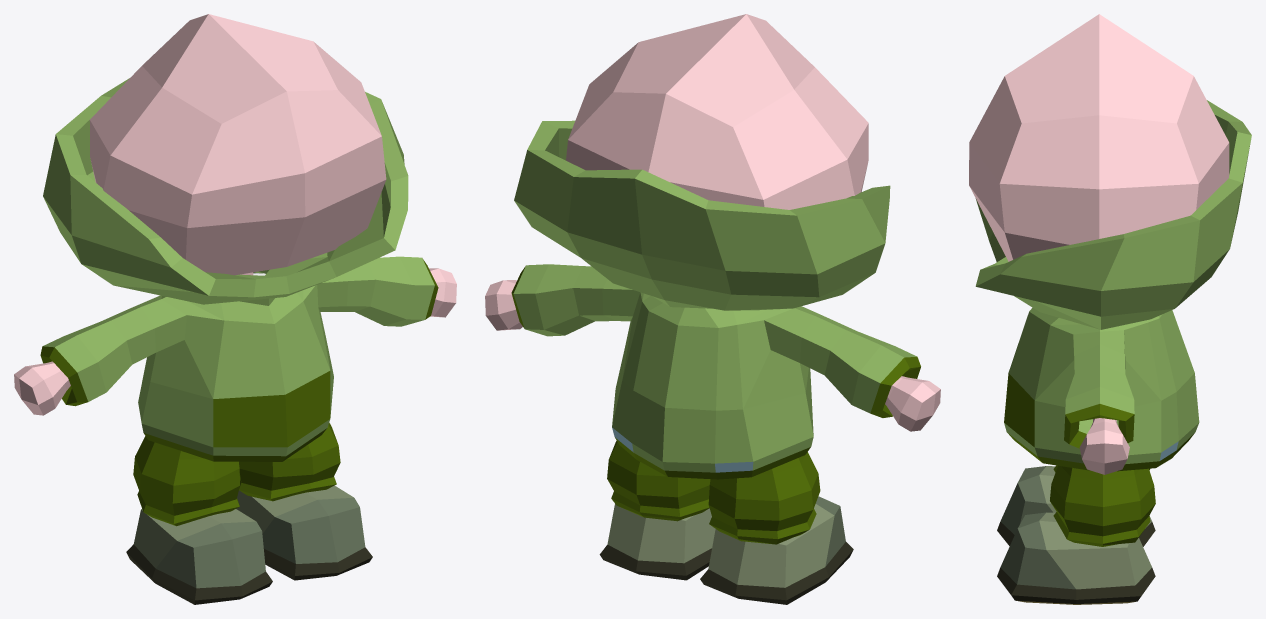
Rendered from tiramysu-liltao.glb.
3 renders of one model, left to right at view 1: azimuth 30°, elevation 25°; view 2: azimuth 150°, elevation 25°; view 3: azimuth 270°, elevation 25°, orthographic. The views are drawn at different scales.
Visible parts, largest first — view 1: Hoodie, Head, Shoes, Pants, Limbs; view 2: Hoodie, Head, Shoes, Pants, Limbs; view 3: Hoodie, Head, Shoes, Pants, Limbs.
Part boxes in pixels (x1=…): Hoodie: x1=40, y1=78, x2=438, y2=461; Head: x1=89, y1=14, x2=386, y2=275; Shoes: x1=126, y1=485, x2=372, y2=604; Pants: x1=133, y1=422, x2=340, y2=526; Limbs: x1=14, y1=268, x2=456, y2=415; Hoodie: x1=511, y1=120, x2=920, y2=479; Head: x1=566, y1=14, x2=868, y2=209; Shoes: x1=599, y1=496, x2=853, y2=604; Pants: x1=607, y1=440, x2=820, y2=544; Limbs: x1=485, y1=280, x2=940, y2=431; Hoodie: x1=975, y1=100, x2=1251, y2=471; Head: x1=969, y1=14, x2=1229, y2=261; Shoes: x1=997, y1=466, x2=1155, y2=604; Pants: x1=1050, y1=465, x2=1155, y2=546; Limbs: x1=1079, y1=418, x2=1129, y2=474.
Size of the model in its own units: 1 by 1.22 by 0.5832.
Materials: 1 (1 with a texture image).
